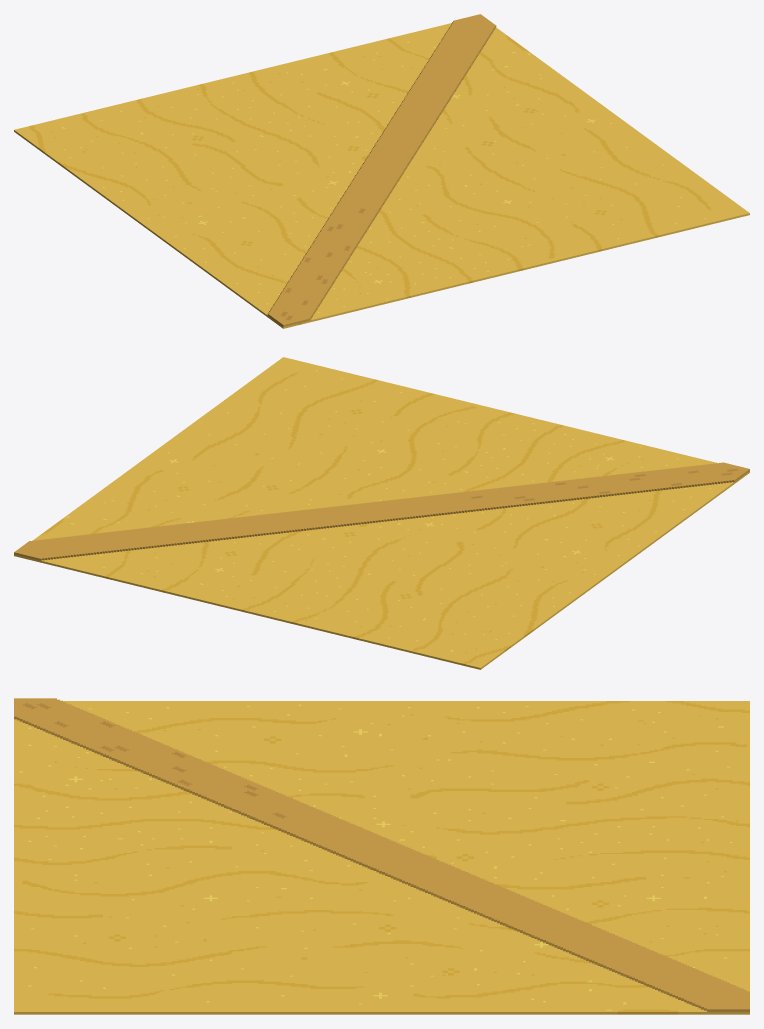
Rendered from shadow-3.obj.
3 views of the same model, one above another, from view 1: azimuth 30°, elevation 25°; view 2: azimuth 150°, elevation 25°; view 3: azimuth 270°, elevation 25° (orthographic). The views are drawn at different scales.
Size of the model in its own units: 25.6 by 0.2 by 25.6.
Materials: 1 (1 with a texture image).
